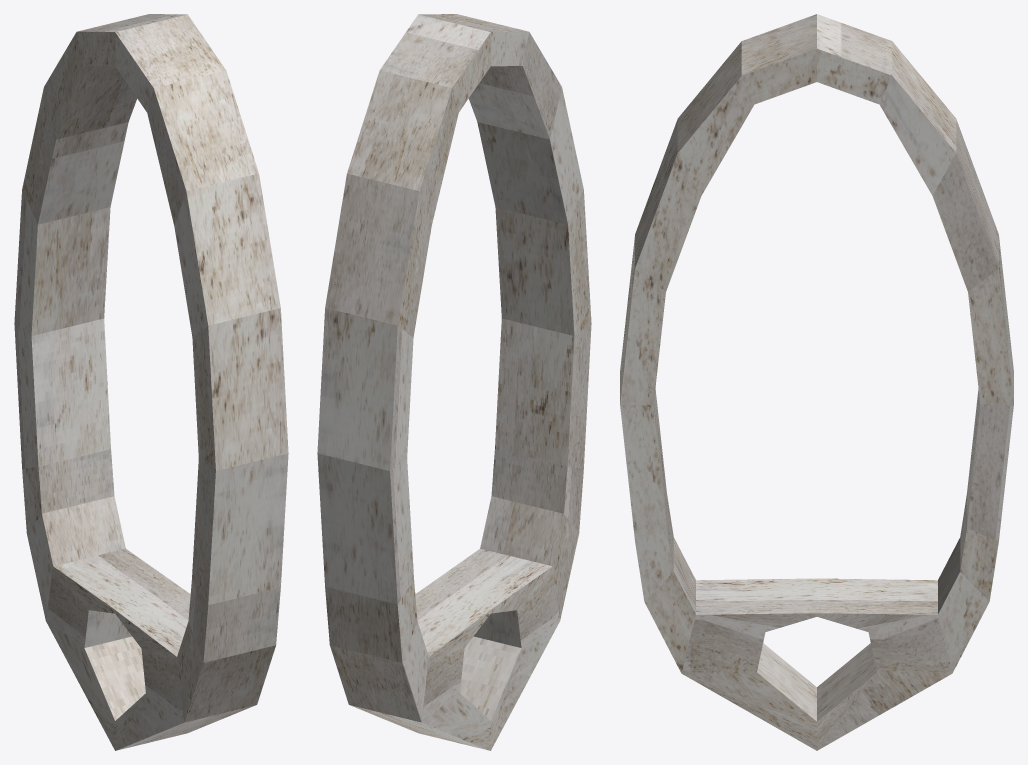
File: PSX metallic mirror.fbx
3 views of the same model, side by side, from view 1: azimuth 30°, elevation 25°; view 2: azimuth 150°, elevation 25°; view 3: azimuth 270°, elevation 25° (orthographic). The views are drawn at different scales.
Parts seen in each view (by area): view 1: Cube; view 2: Cube; view 3: Cube.
Part boxes in pixels (<box>): Cube: <box>14,14,288,750</box>; Cube: <box>317,14,591,750</box>; Cube: <box>620,14,1013,750</box>.
Bounding box in the file's own units: 36.28 × 343 × 174.
